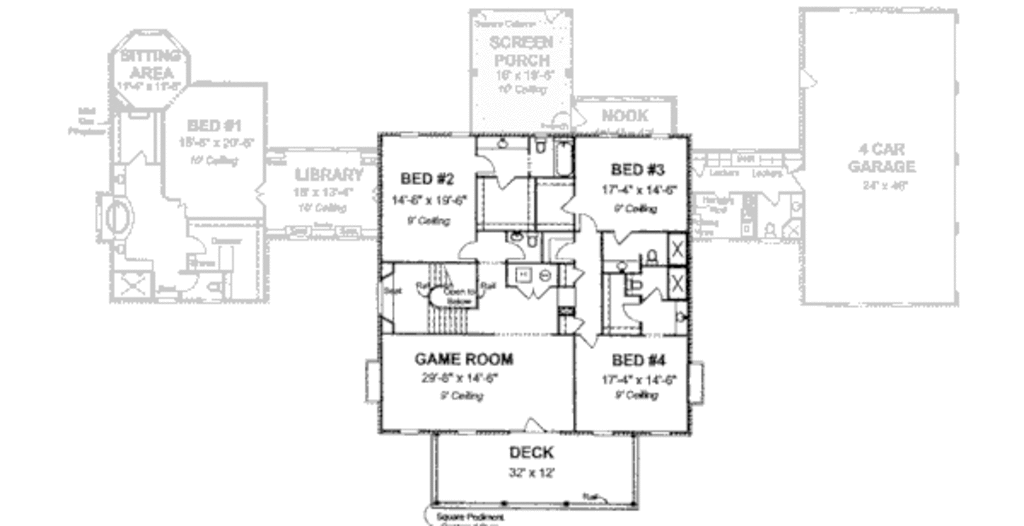door: (174, 268, 203, 299), (554, 240, 581, 268), (558, 191, 580, 221), (618, 300, 645, 323), (515, 286, 551, 303), (186, 229, 206, 259), (759, 188, 784, 212), (523, 415, 549, 438), (473, 151, 496, 176), (795, 65, 817, 90), (456, 235, 478, 259), (579, 330, 600, 353), (128, 144, 148, 168), (506, 241, 530, 261), (611, 226, 632, 247), (496, 176, 518, 193)
large_sink: (206, 268, 232, 300), (760, 218, 781, 240), (642, 246, 665, 265), (626, 275, 643, 295)
stairs: (417, 265, 480, 335)
tub: (101, 193, 139, 243), (549, 134, 579, 179)
window: (453, 425, 483, 440), (394, 426, 425, 440), (647, 424, 672, 440), (591, 427, 617, 439)
